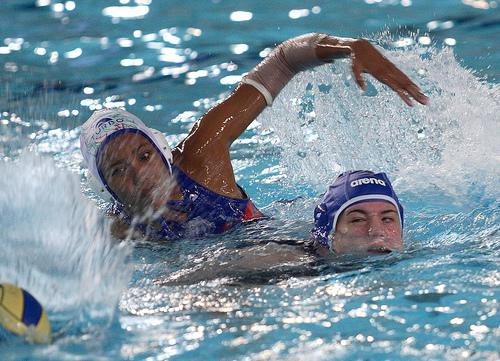swimmer: (98, 29, 428, 249), (178, 165, 420, 308)
